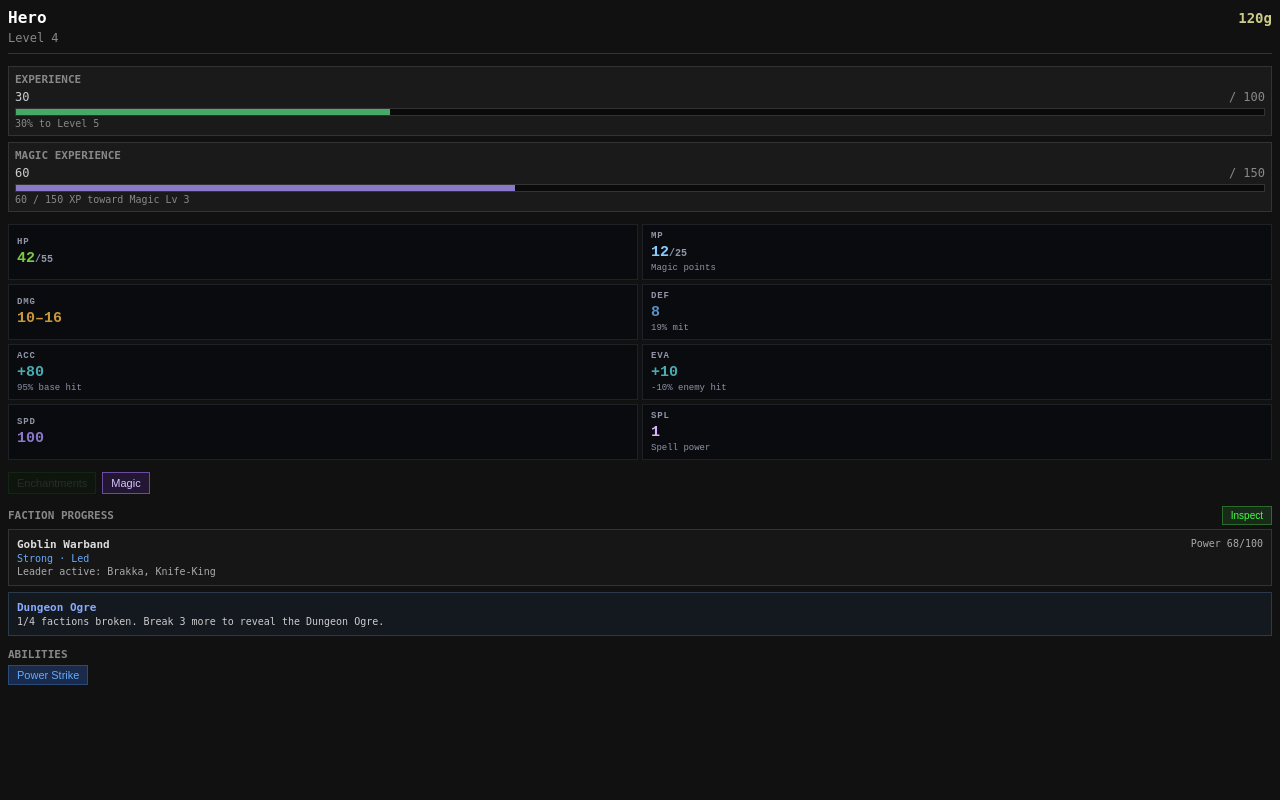
it: CharacterScreen faction progress › shows magic progression, MP and spell power tiles, and a dedicated magic modal without duplicate spell abilities
The image size is (1280, 800).
Expected: the text "MAGIC EXPERIENCE" is shown, x1=15 y1=149 x2=121 y2=162
Expected: the text "60 / 150 XP toward Magic Lv 3" is shown, x1=15 y1=194 x2=190 y2=205
Click the button "Magic".
click(126, 483)  # box x1=102 y1=472 x2=150 y2=494
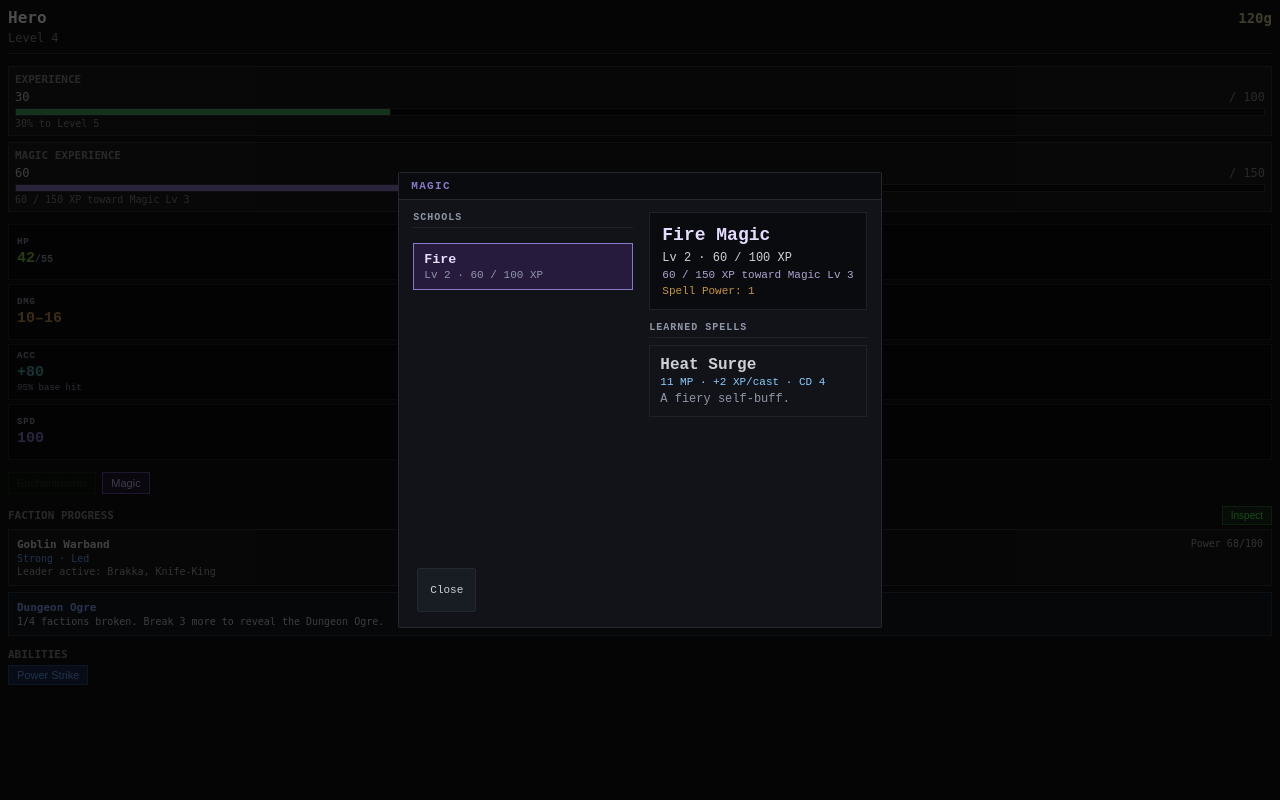
Now the text "Fire Magic" is shown, box x1=662 y1=225 x2=770 y2=245
Now the text "Spell Power: 1" is shown, box x1=662 y1=285 x2=755 y2=297
Now the text "11 MP · +2 XP/cast · CD 4" is shown, box x1=660 y1=376 x2=825 y2=388
